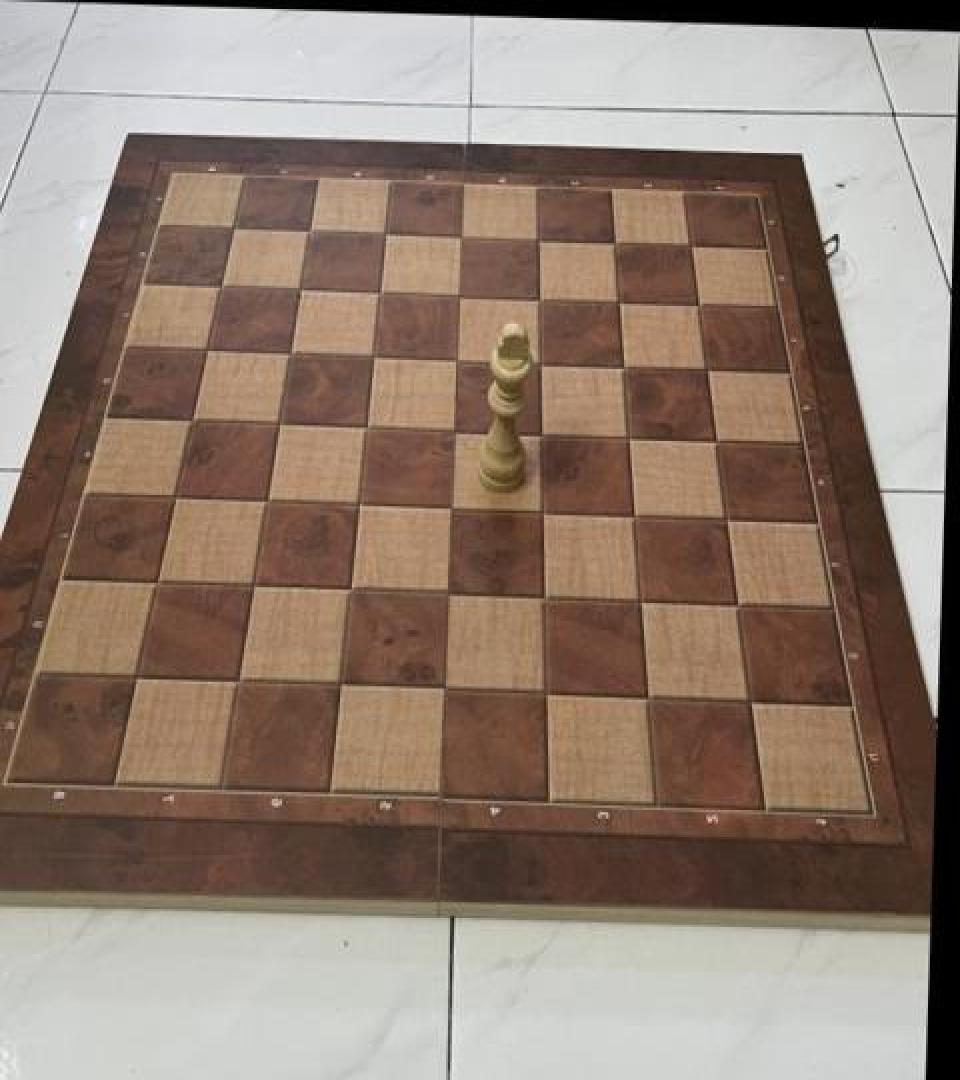xcorner: (216, 210, 252, 251), (139, 561, 175, 602), (273, 334, 309, 375), (249, 480, 285, 521), (220, 660, 256, 701), (362, 273, 398, 314), (356, 336, 392, 377), (348, 407, 384, 448), (332, 569, 368, 610), (444, 218, 480, 259), (432, 487, 468, 528), (424, 668, 460, 709), (521, 343, 557, 384), (600, 282, 636, 323), (609, 416, 645, 457), (621, 579, 657, 620), (628, 676, 664, 717), (671, 226, 707, 267), (707, 497, 743, 538), (204, 268, 240, 308), (190, 331, 226, 371), (175, 401, 211, 441), (158, 477, 194, 517), (119, 657, 155, 697), (292, 213, 328, 253), (283, 270, 319, 310), (262, 404, 298, 444), (236, 566, 272, 606), (368, 215, 404, 255), (341, 484, 377, 524), (322, 664, 358, 704), (441, 277, 477, 317), (438, 340, 474, 380), (435, 410, 471, 450), (428, 573, 464, 613), (519, 221, 555, 261), (520, 279, 556, 319), (522, 413, 558, 453), (524, 491, 560, 531), (525, 576, 561, 616), (526, 672, 562, 712), (595, 224, 631, 264), (604, 347, 640, 387), (615, 494, 651, 534), (679, 285, 715, 325), (687, 349, 723, 389), (697, 420, 733, 460), (718, 584, 754, 624), (731, 680, 767, 720)
